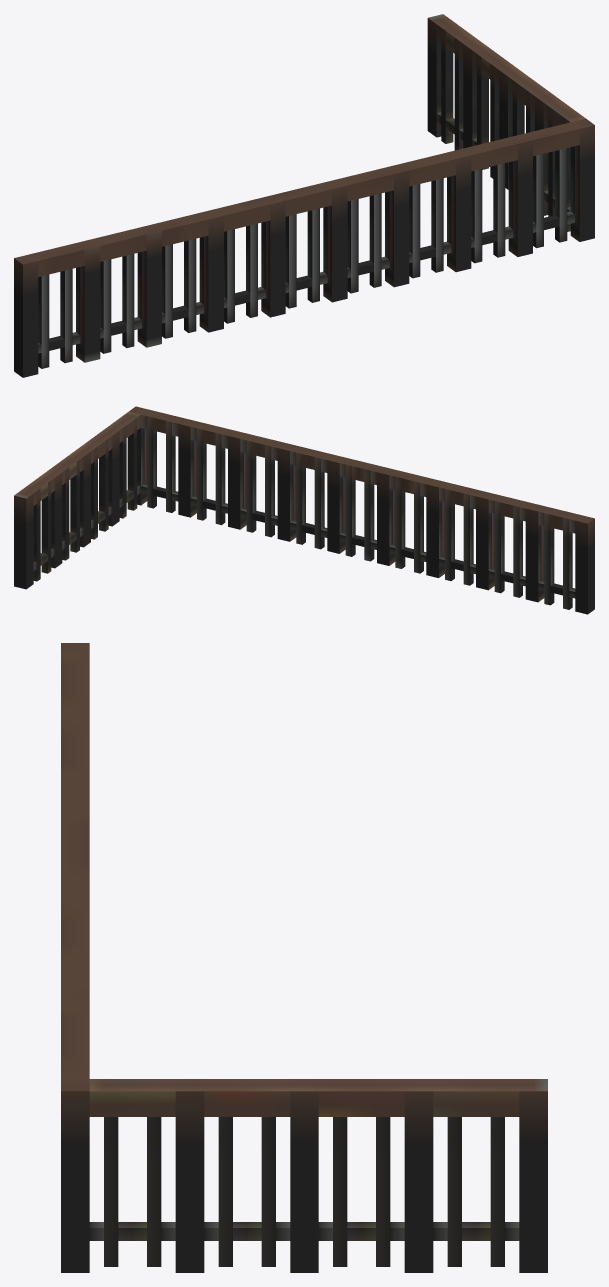
The model's file is BarrierStairCaseSmall_00.fbx.
The picture shows the model from 3 angles, top to bottom: view 1: azimuth 30°, elevation 25°; view 2: azimuth 150°, elevation 25°; view 3: azimuth 270°, elevation 25°; orthographic projection. The views are drawn at different scales.
Visible parts, largest first — view 1: BarrierStairCaseSmall_00; view 2: BarrierStairCaseSmall_00; view 3: BarrierStairCaseSmall_00.
Boxes of the visible parts, x1,y1,x2,y2 form: BarrierStairCaseSmall_00: (14, 14, 594, 377); BarrierStairCaseSmall_00: (14, 406, 594, 614); BarrierStairCaseSmall_00: (61, 643, 547, 1272).
Bounding box in the file's own units: 370 × 170 × 70.
Materials: 1 (1 with a texture image).
